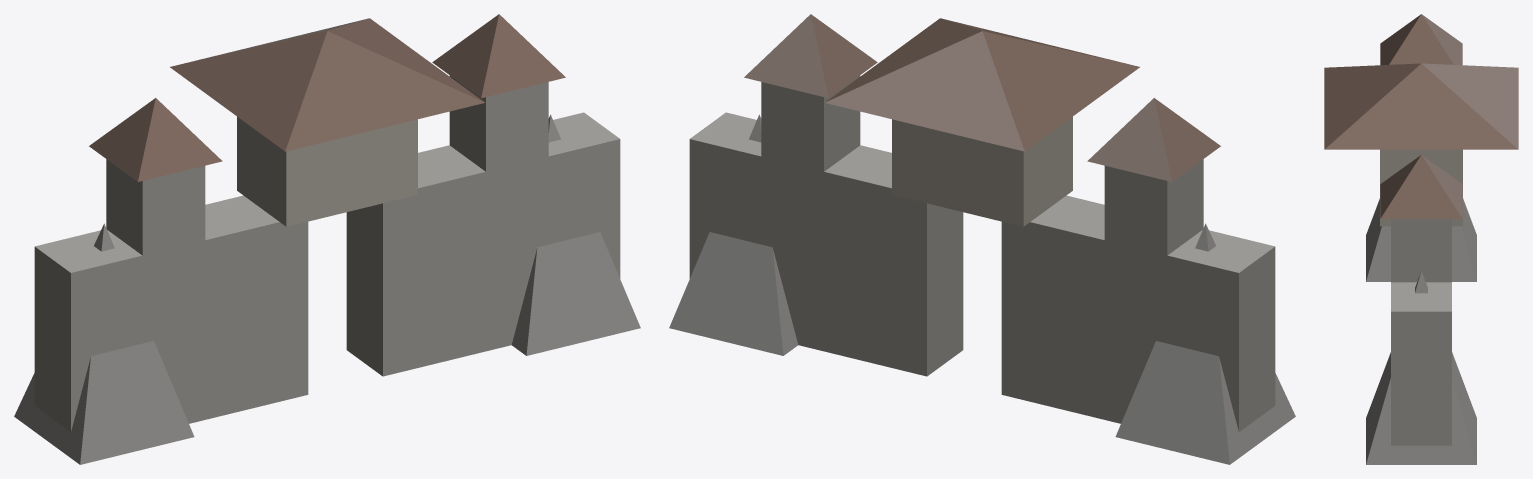
Rendered from pass.gltf.
3 renders of one model, left to right at view 1: azimuth 30°, elevation 25°; view 2: azimuth 150°, elevation 25°; view 3: azimuth 270°, elevation 25°, orthographic. The views are drawn at different scales.
Visible parts, largest first — view 1: building-pass; view 2: building-pass; view 3: building-pass.
Part boxes in pixels (x1=…): building-pass: x1=14, y1=14, x2=640, y2=464; building-pass: x1=669, y1=14, x2=1295, y2=464; building-pass: x1=1324, y1=14, x2=1518, y2=464.
Size of the model in its own units: 0.98 by 0.57 by 0.35.
